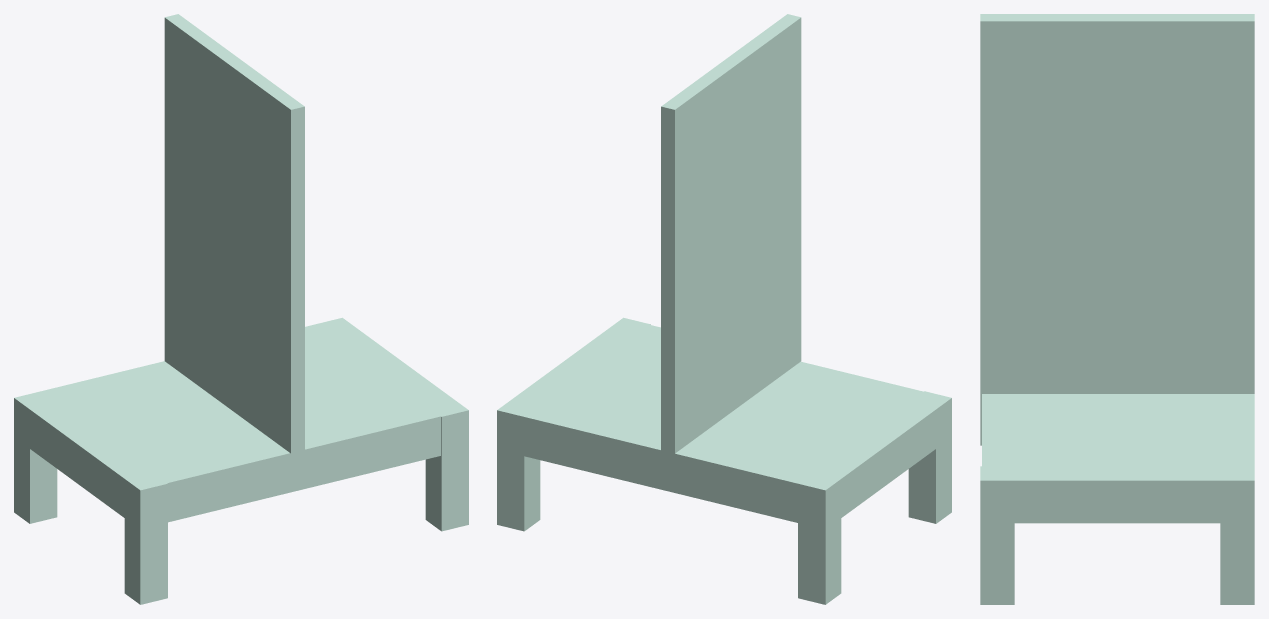
The model's file is expected.gltf.
3 views of the same model, side by side, from view 1: azimuth 30°, elevation 25°; view 2: azimuth 150°, elevation 25°; view 3: azimuth 270°, elevation 25° (orthographic). The views are drawn at different scales.
Parts seen in each view (by area): view 1: Renderer Node; view 2: Renderer Node; view 3: Renderer Node.
Boxes of the visible parts, x1,y1,x2,y2 form: Renderer Node: (14,14,468,604); Renderer Node: (497,14,951,604); Renderer Node: (980,14,1254,604).
Size of the model in its own units: 0.75 by 1 by 0.5.
